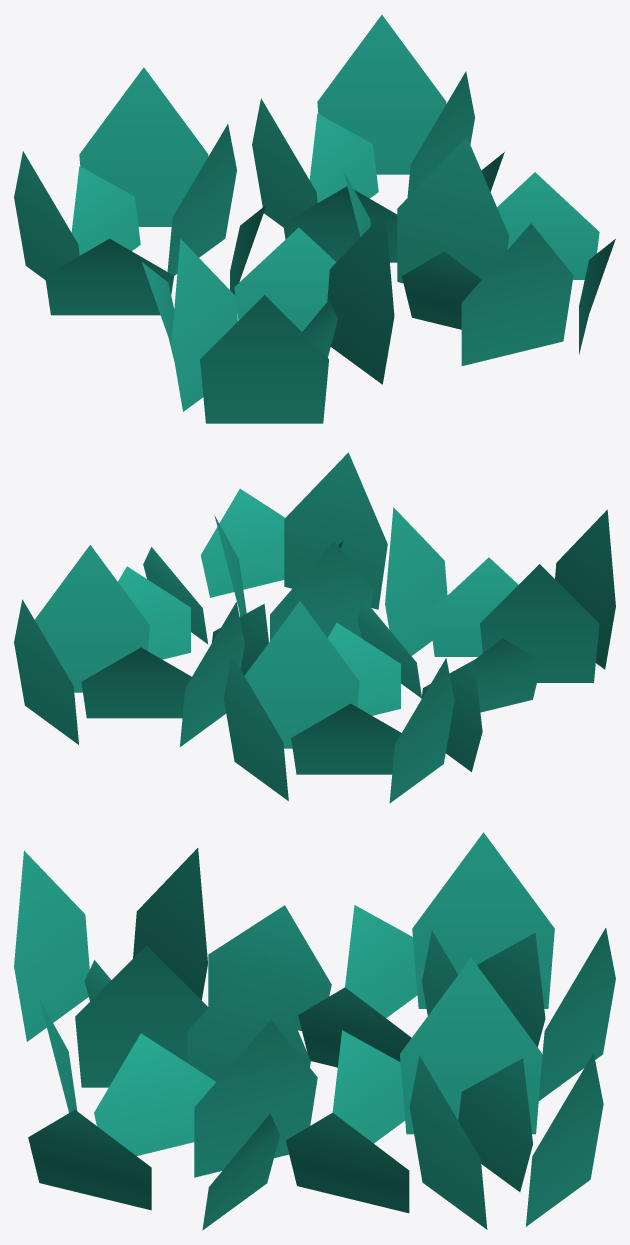
The model's file is grass_leafsLarge.glb.
3 renders of one model, top to bottom at view 1: azimuth 30°, elevation 25°; view 2: azimuth 150°, elevation 25°; view 3: azimuth 270°, elevation 25°, orthographic. The views are drawn at different scales.
Parts seen in each view (by area): view 1: grass_leafsLarge; view 2: grass_leafsLarge; view 3: grass_leafsLarge.
Boxes of the visible parts, <box> form: grass_leafsLarge: <box>14,15,615,423</box>; grass_leafsLarge: <box>14,452,615,803</box>; grass_leafsLarge: <box>14,832,615,1230</box>.
Size of the model in its own units: 0.5711 by 0.171 by 0.5848.
